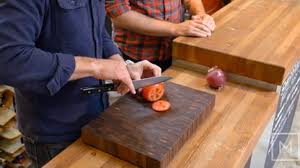knife: (74, 72, 177, 92)
